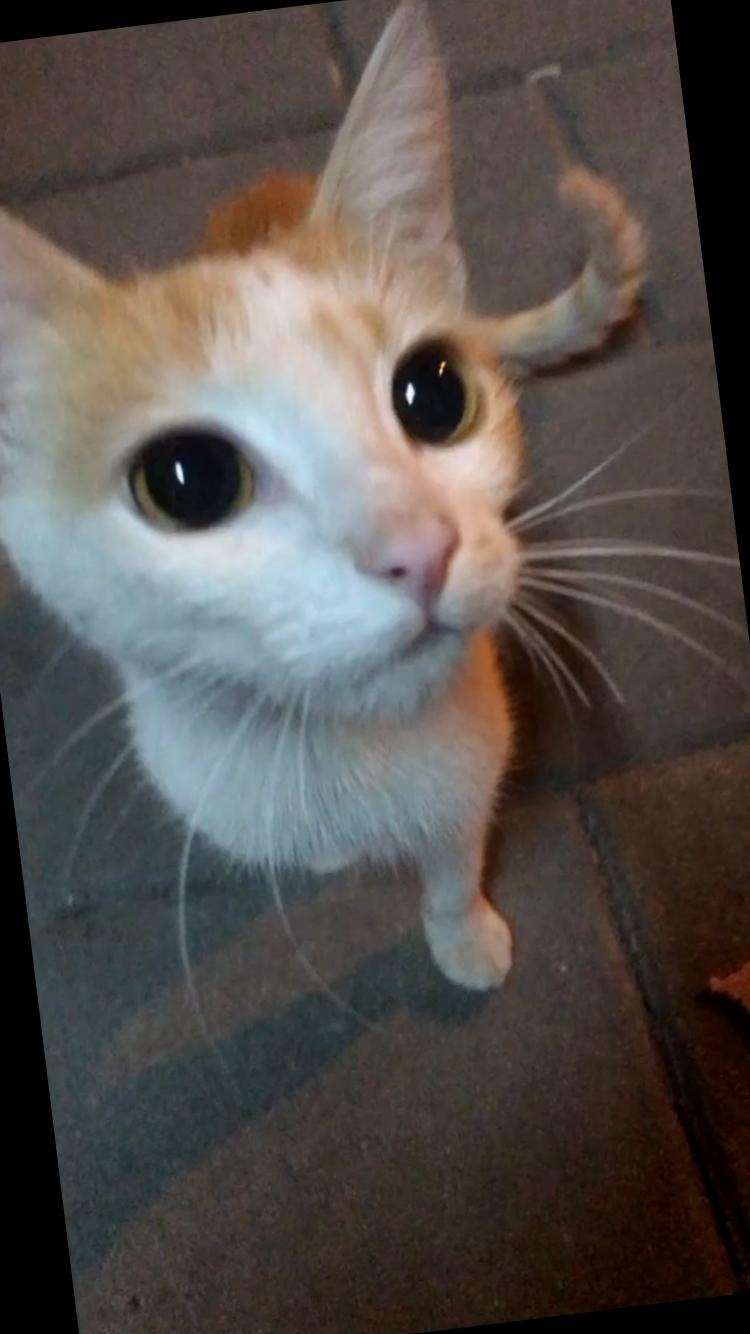macka: (0, 0, 741, 1044)
